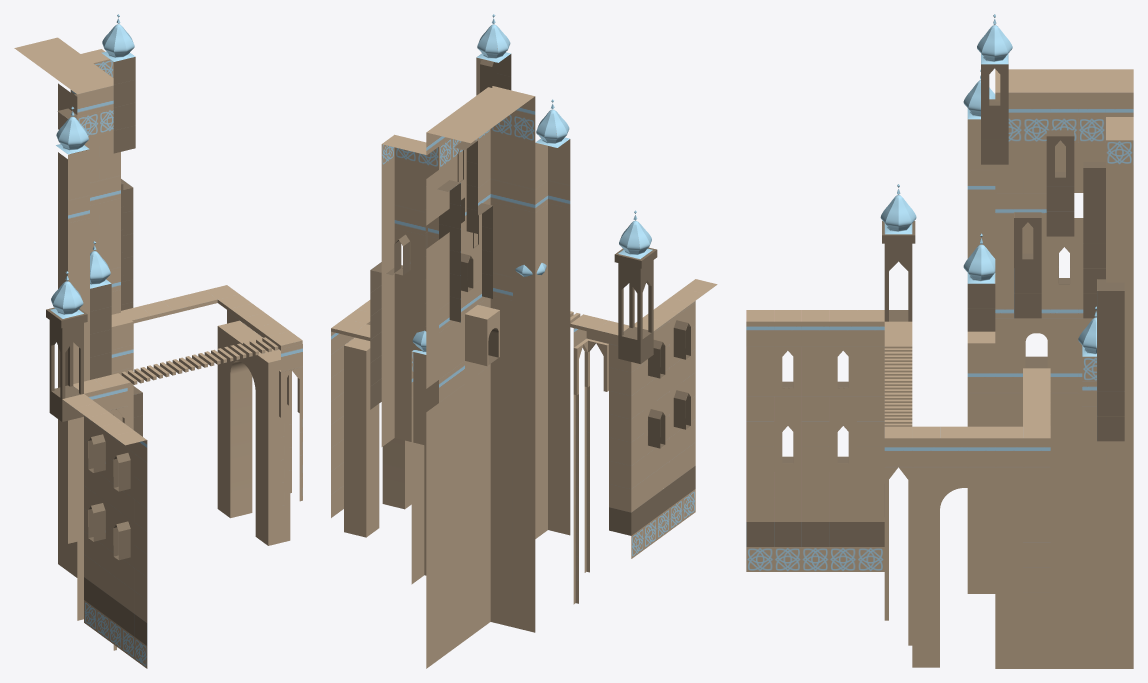
The model's file is Level1_Final.fbx.
The picture shows the model from 3 angles, left to right: view 1: azimuth 30°, elevation 25°; view 2: azimuth 150°, elevation 25°; view 3: azimuth 270°, elevation 25°; orthographic projection. The views are drawn at different scales.
Parts seen in each view (by area): view 1: Cube.031, Plane.142, Plane.030, Plane.026, Plane.027, Cube.030, Plane.029, Cube.044, Plane.113, Plane.104, Cube.038, Plane.147 (+22 smaller); view 2: Plane.027, Plane.026, Plane.030, Cube.031, Plane.119, Plane.142, Plane.103, Plane.118, Plane.149, Cube.030, Plane.029, Plane.151 (+28 smaller); view 3: Plane.027, Plane.142, Cube.031, Plane.118, Plane.131, Plane.151, Plane.125, Plane.146, Plane.115, Plane.143, Plane.147, Plane.148 (+39 smaller).
Part boxes in pixels (box(x1,y1,x2,y2)): Cube.031: box(217, 320, 290, 545); Plane.142: box(84, 417, 147, 622); Plane.030: box(68, 149, 89, 543); Plane.026: box(77, 131, 120, 620); Plane.027: box(58, 83, 77, 577); Cube.030: box(46, 307, 87, 421); Plane.029: box(14, 37, 113, 94); Cube.044: box(115, 337, 278, 386); Plane.113: box(113, 57, 135, 153); Plane.104: box(90, 283, 111, 379); Cube.038: box(205, 285, 302, 348); Plane.147: box(84, 577, 147, 645); Plane.027: box(426, 132, 490, 668); Plane.026: box(490, 132, 535, 632); Plane.030: box(548, 139, 570, 535); Cube.031: box(344, 337, 411, 537); Plane.119: box(394, 158, 438, 445); Plane.142: box(631, 302, 695, 512); Plane.103: box(535, 143, 547, 538); Plane.118: box(381, 158, 394, 446); Plane.149: box(609, 344, 631, 512); Cube.030: box(614, 247, 657, 363); Plane.029: box(426, 86, 534, 143); Plane.151: box(331, 346, 343, 517); Plane.027: box(995, 143, 1133, 668); Plane.142: box(746, 346, 884, 521); Cube.031: box(912, 467, 1022, 667); Plane.118: box(1106, 165, 1133, 465); Plane.131: box(1082, 407, 1109, 607); Plane.151: box(1023, 467, 1050, 642); Plane.125: box(967, 343, 995, 593); Plane.146: box(884, 442, 1050, 467); Plane.115: box(1097, 291, 1124, 441); Plane.143: box(746, 321, 884, 346); Plane.147: box(746, 522, 884, 546); Plane.148: box(746, 547, 884, 571).
Size of the model in its own units: 2226 by 5217 by 2800.
